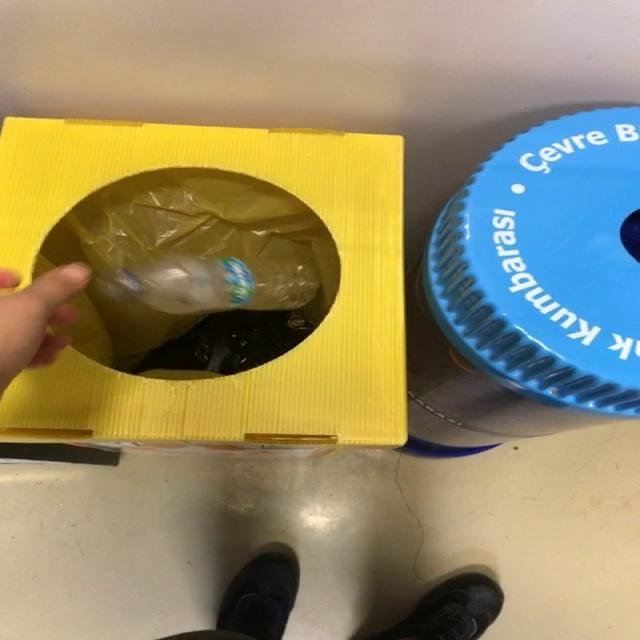plastic: (113, 254, 256, 315), (255, 259, 320, 310)
